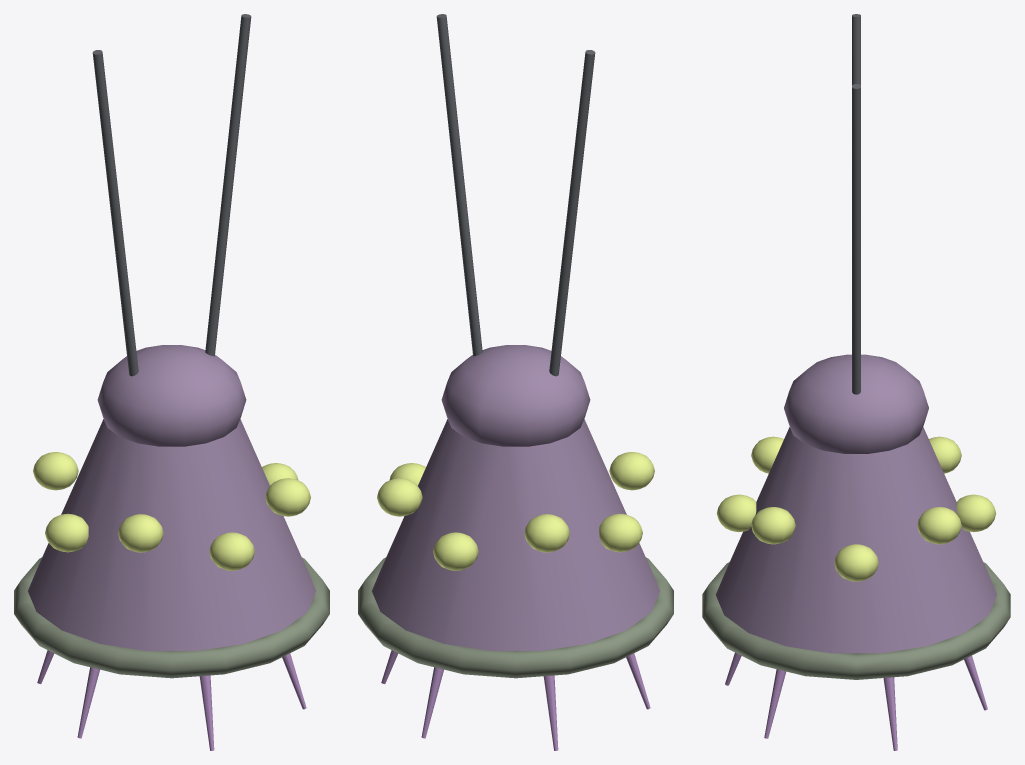
Rendered from boss_bell.glb.
The picture shows the model from 3 angles, left to right: view 1: azimuth 30°, elevation 25°; view 2: azimuth 150°, elevation 25°; view 3: azimuth 270°, elevation 25°; orthographic projection. The views are drawn at different scales.
Parts seen in each view (by area): view 1: boss_bell_Palette, boss_bell_Glow; view 2: boss_bell_Palette, boss_bell_Glow; view 3: boss_bell_Palette, boss_bell_Glow.
Part boxes in pixels (left/top/right/bottom): boss_bell_Palette: left=14, top=14, right=329, bottom=750; boss_bell_Glow: left=33, top=452, right=310, bottom=570; boss_bell_Palette: left=358, top=14, right=673, bottom=750; boss_bell_Glow: left=377, top=452, right=654, bottom=570; boss_bell_Palette: left=702, top=14, right=1010, bottom=750; boss_bell_Glow: left=716, top=436, right=996, bottom=581.
Bounding box in the file's own units: 2.24 × 5.11 × 2.21.
